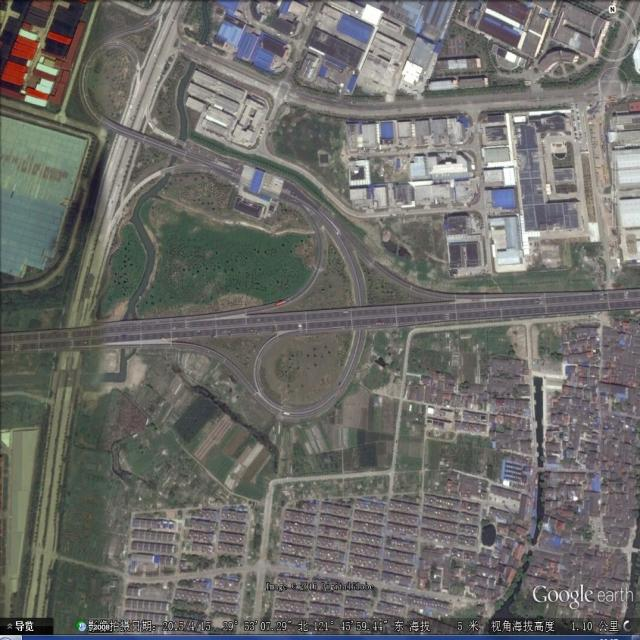overpass: (163, 201, 458, 424)
